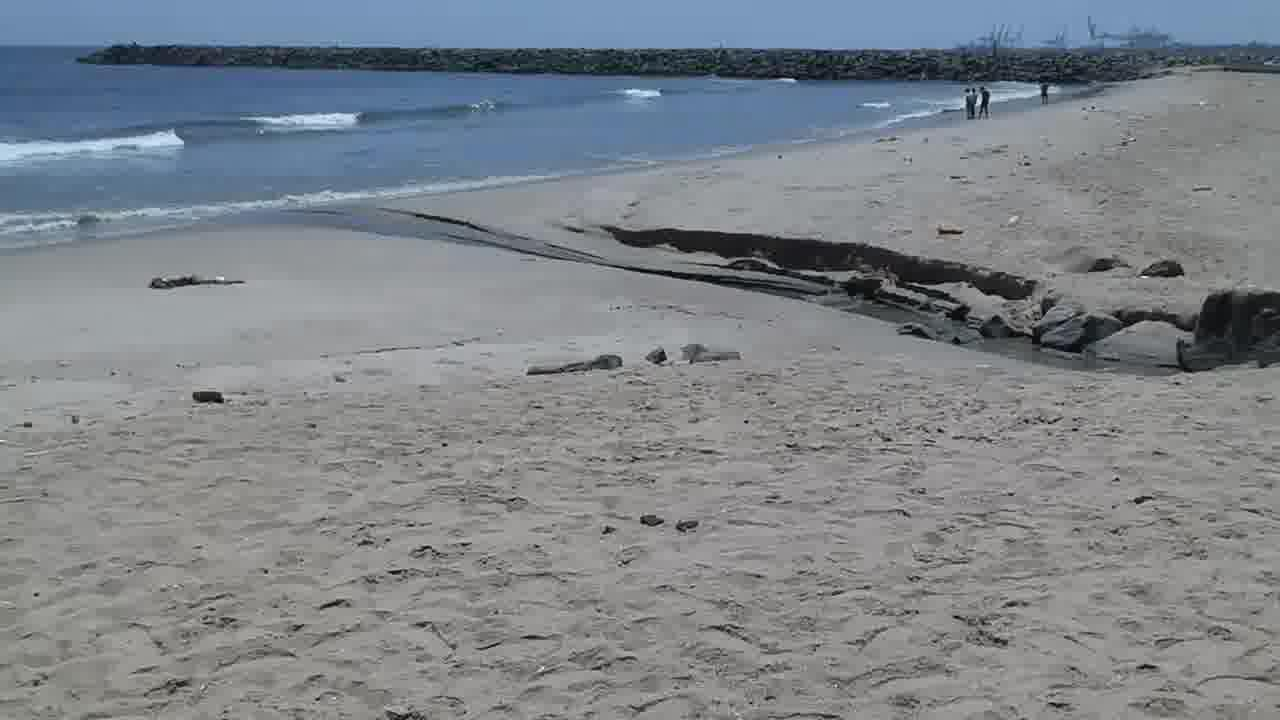large collection of objects: (964, 86, 993, 120)
obj: (524, 356, 624, 376), (154, 270, 246, 289), (681, 342, 747, 364), (184, 387, 226, 404), (648, 349, 672, 364), (942, 222, 963, 238)
sand/background: (0, 1, 1279, 248)
